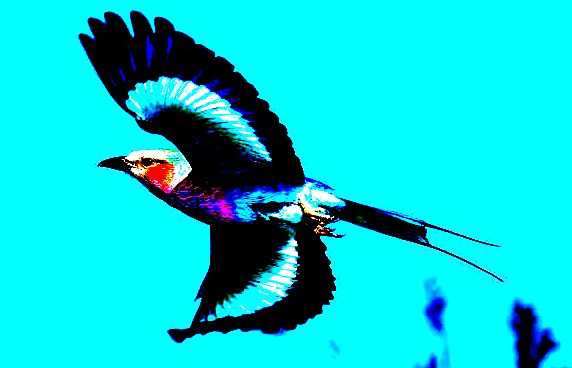Bird: (75, 7, 509, 349)
